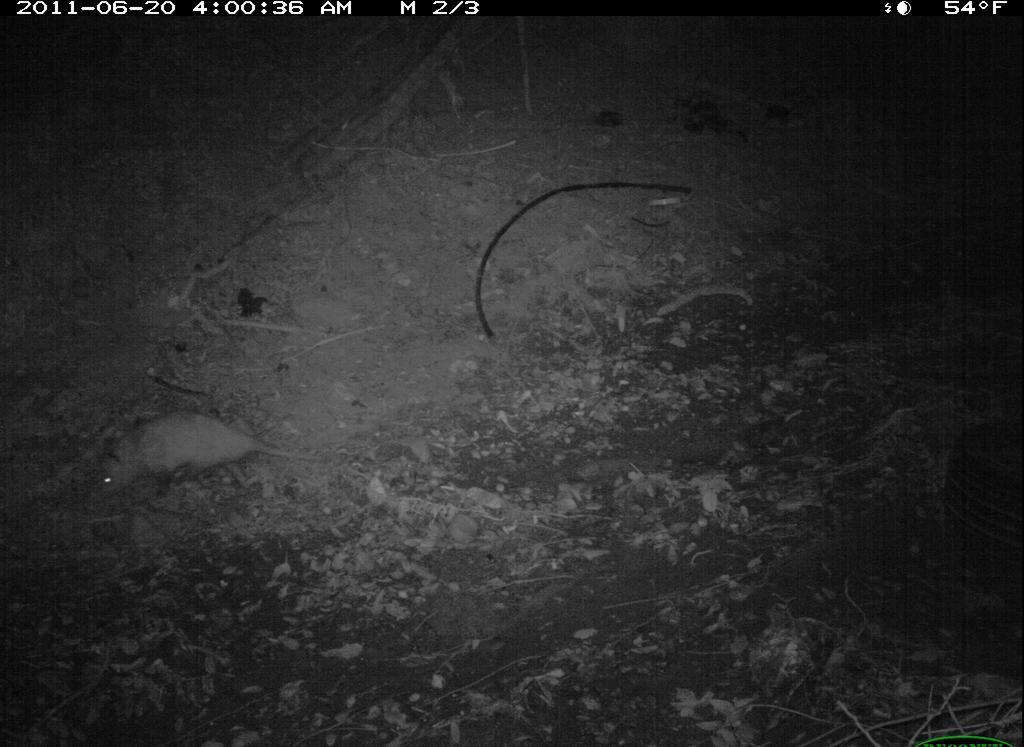opossum: (89, 404, 340, 511)
